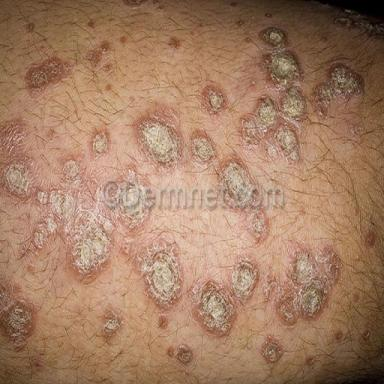Psoriasis: (0, 120, 114, 279), (240, 26, 307, 161), (263, 243, 341, 326), (189, 258, 259, 335), (103, 167, 155, 255), (131, 238, 182, 327), (220, 160, 269, 242), (310, 62, 364, 119), (136, 108, 183, 172), (0, 276, 35, 349), (25, 56, 73, 99), (333, 9, 384, 39), (189, 131, 215, 164), (201, 86, 226, 113), (259, 336, 283, 363), (86, 41, 110, 66), (166, 344, 193, 365), (103, 307, 121, 337), (90, 131, 109, 158), (123, 0, 148, 7), (169, 37, 180, 49), (235, 19, 245, 26), (245, 37, 251, 43), (265, 13, 272, 18)
